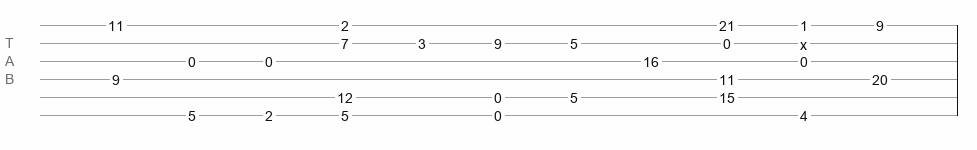0: (188, 54, 196, 64), (265, 54, 273, 64), (494, 90, 502, 100), (494, 108, 502, 118), (723, 36, 731, 46), (800, 54, 808, 64)
1: (800, 18, 808, 28)
11: (108, 18, 124, 28), (719, 72, 735, 82)
12: (337, 90, 353, 100)
15: (719, 90, 735, 100)
16: (643, 54, 659, 64)
2: (265, 108, 273, 118), (341, 18, 349, 28)
20: (872, 72, 888, 82)
21: (719, 18, 735, 28)
3: (418, 36, 426, 46)
4: (800, 108, 808, 118)
5: (188, 108, 196, 118), (341, 108, 349, 118), (570, 90, 578, 100), (570, 36, 578, 46)
7: (341, 36, 349, 46)
9: (112, 72, 120, 82), (494, 36, 502, 46), (876, 18, 884, 28)
x: (800, 37, 807, 45)
